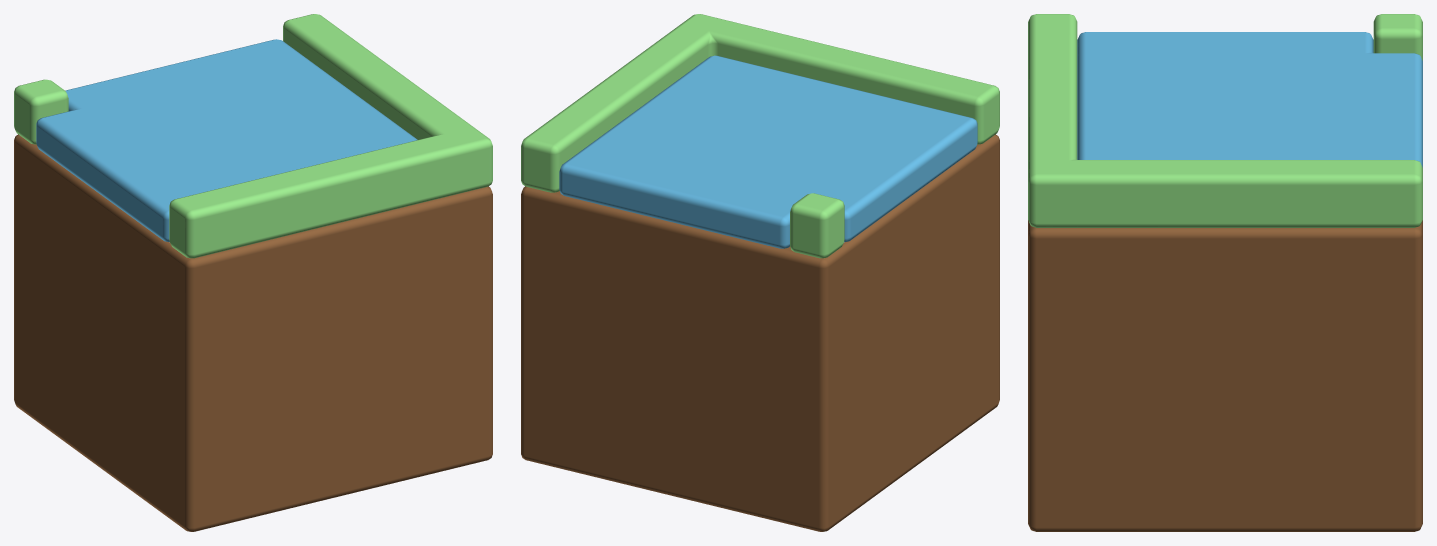
Rendered from Water Tile - Corner - 1x1.glb.
The picture shows the model from 3 angles, left to right: view 1: azimuth 30°, elevation 25°; view 2: azimuth 150°, elevation 25°; view 3: azimuth 270°, elevation 25°; orthographic projection. The views are drawn at different scales.
Parts seen in each view (by area): view 1: Water Path Corner - BR.; view 2: Water Path Corner - BR.; view 3: Water Path Corner - BR..
Part boxes in pixels (x1,y1,x2,y2): Water Path Corner - BR.: (14, 14, 492, 531); Water Path Corner - BR.: (521, 14, 999, 531); Water Path Corner - BR.: (1028, 14, 1422, 531).
Bounding box in the file's own units: 2 × 2 × 2.
